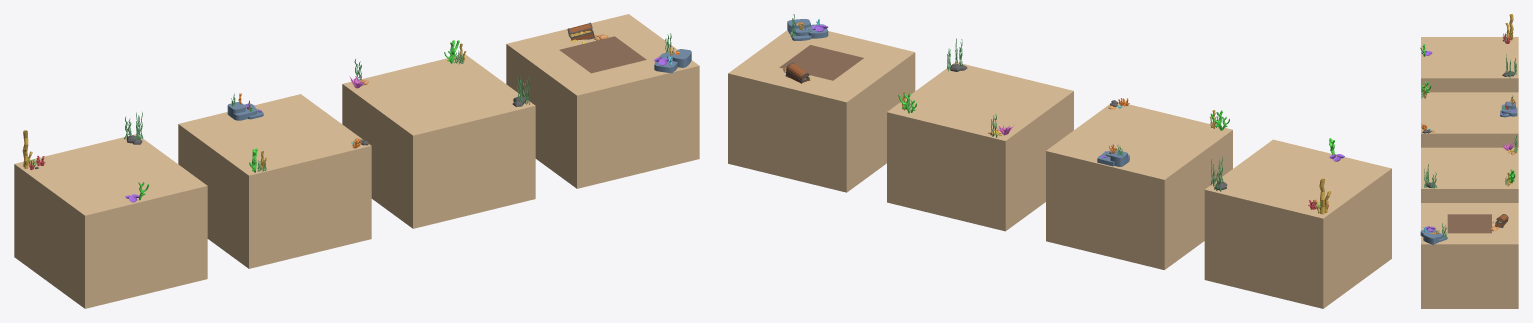
File: zona1.fbx
3 renders of one model, left to right at view 1: azimuth 30°, elevation 25°; view 2: azimuth 150°, elevation 25°; view 3: azimuth 270°, elevation 25°, orthographic. The views are drawn at different scales.
Parts seen in each view (by area): view 1: zona_1, zona_3, zona_2, zona_4, Cube.001, Cube.002; view 2: zona_1, zona_3, zona_2, zona_4, Cube.001; view 3: zona_4, zona_3, zona_1, zona_2, Cube.001, Cube.002, Plane.005, Cylinder.003, Circle.001, Plane.001.
Part boxes in pixels (<box>): zona_1: <box>14,134,207,308</box>; zona_3: <box>342,54,535,228</box>; zona_2: <box>178,94,371,268</box>; zona_4: <box>506,14,699,188</box>; Cube.001: <box>654,49,691,73</box>; Cube.002: <box>227,102,263,120</box>; zona_1: <box>1204,139,1391,308</box>; zona_3: <box>887,62,1073,231</box>; zona_2: <box>1046,101,1232,269</box>; zona_4: <box>728,30,915,192</box>; Cube.001: <box>787,19,828,40</box>; zona_4: <box>1421,203,1518,308</box>; zona_3: <box>1421,147,1518,202</box>; zona_1: <box>1421,37,1518,92</box>; zona_2: <box>1421,92,1518,147</box>; Cube.001: <box>1420,228,1447,245</box>; Cube.002: <box>1500,101,1517,117</box>; Plane.005: <box>1424,164,1437,188</box>; Cylinder.003: <box>1505,14,1513,40</box>; Circle.001: <box>1492,214,1508,227</box>; Plane.001: <box>1505,54,1516,77</box>.
Bounding box in the file's own units: 91.83 × 18.33 × 18.42.
